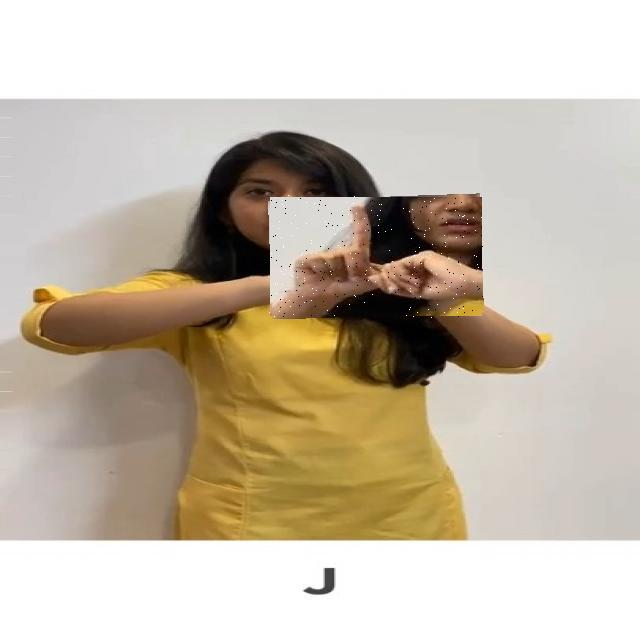J: (269, 195, 483, 318)
